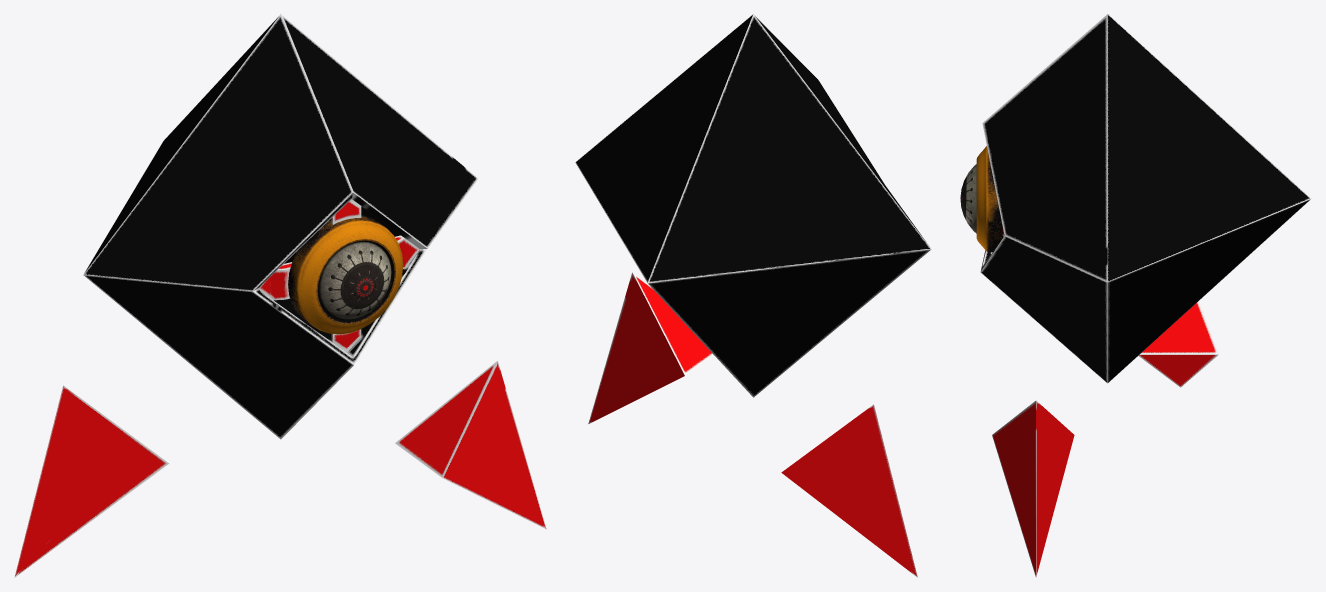
Rendered from PrismBoss.fbx.
3 renders of one model, left to right at view 1: azimuth 30°, elevation 25°; view 2: azimuth 150°, elevation 25°; view 3: azimuth 270°, elevation 25°, orthographic. The views are drawn at different scales.
Visible parts, largest first — view 1: Body, Body.002, Body.001, eyeBall; view 2: Body, Body.002, Body.001; view 3: Body, Body.001, Body.002, eyeBall.
Boxes of the visible parts, box(x1,y1,x2,y2) form: Body: box(83, 14, 478, 439); Body.002: box(14, 385, 168, 577); Body.001: box(395, 361, 546, 529); eyeBall: box(286, 241, 391, 320); Body: box(575, 14, 931, 397); Body.002: box(781, 404, 917, 577); Body.001: box(588, 272, 713, 423); Body: box(976, 14, 1311, 383); Body.001: box(992, 400, 1074, 577); Body.002: box(1138, 301, 1218, 387); eyeBall: box(960, 164, 1003, 238).
Size of the model in its own units: 125 by 144 by 97.86.
Materials: 4 (4 with a texture image).
